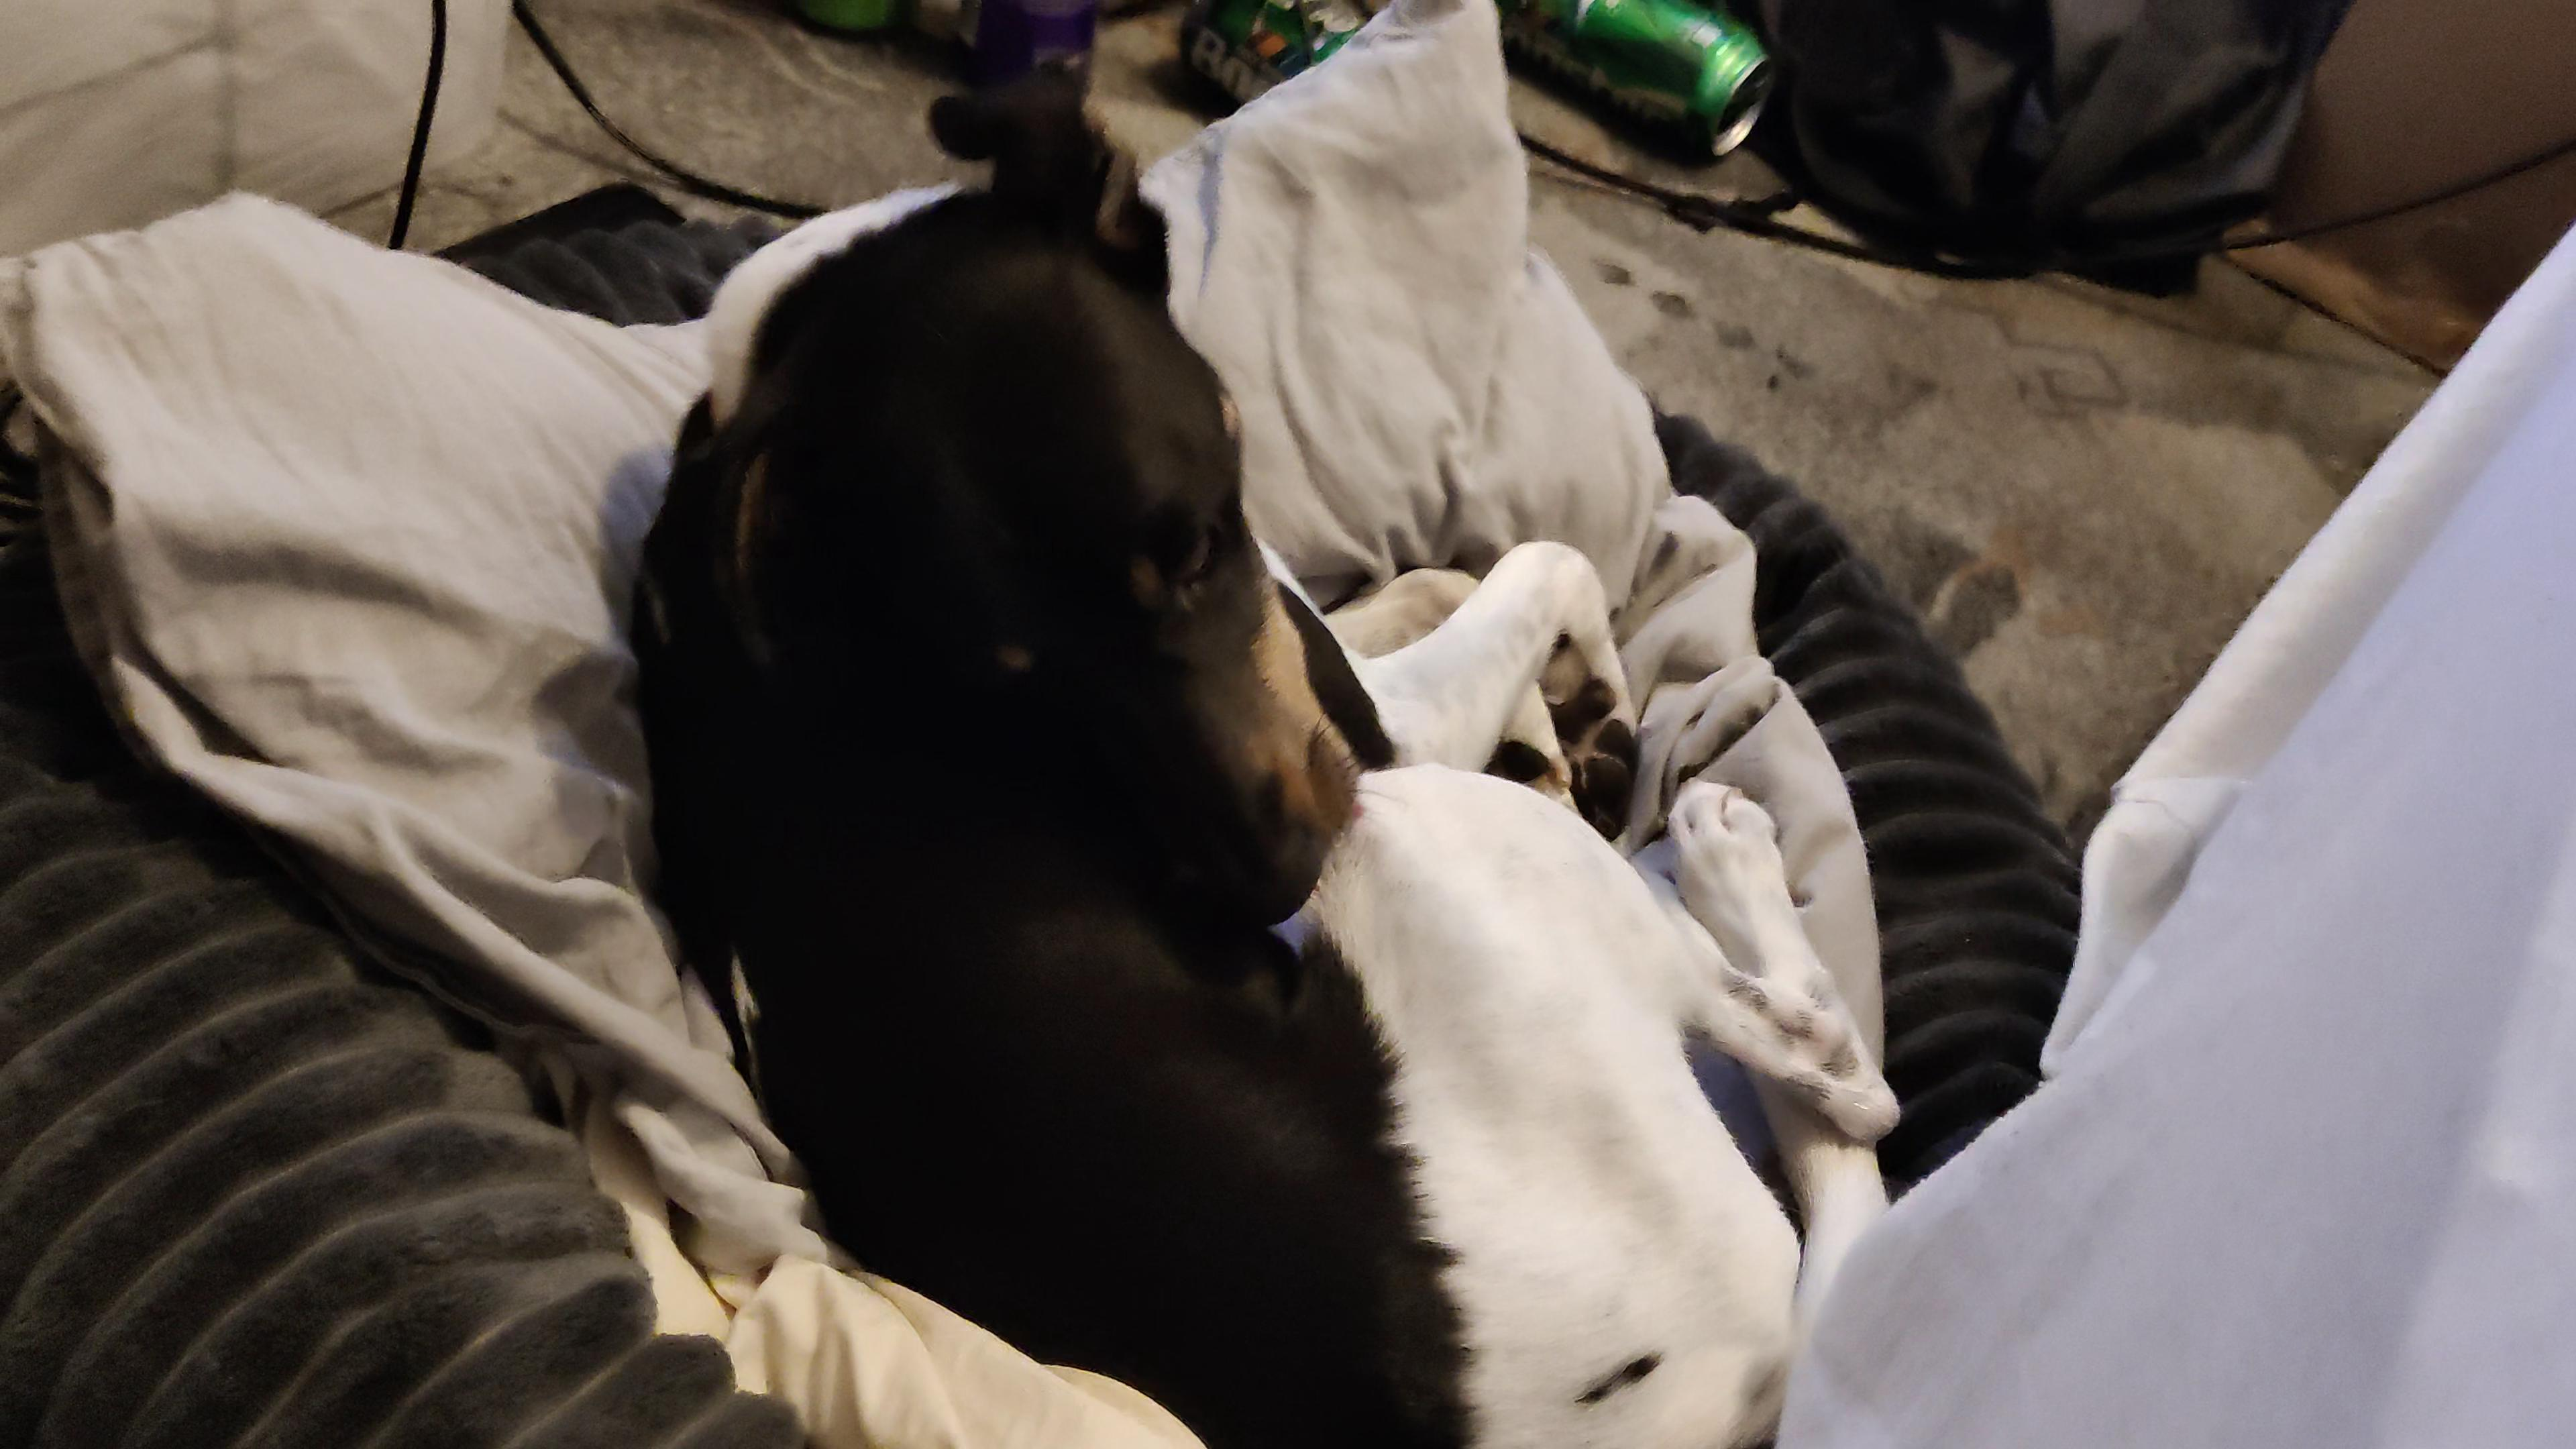Dog: (596, 50, 1943, 1449)
